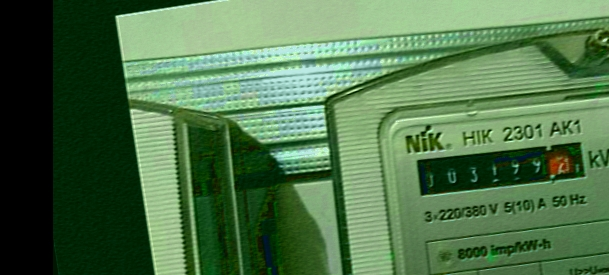0: (422, 167, 437, 190), (445, 164, 459, 186)
1: (488, 158, 501, 178)
3: (467, 164, 481, 184)
6: (556, 159, 568, 177)
9: (509, 155, 523, 177), (530, 154, 544, 174)
screen: (409, 130, 597, 210)
